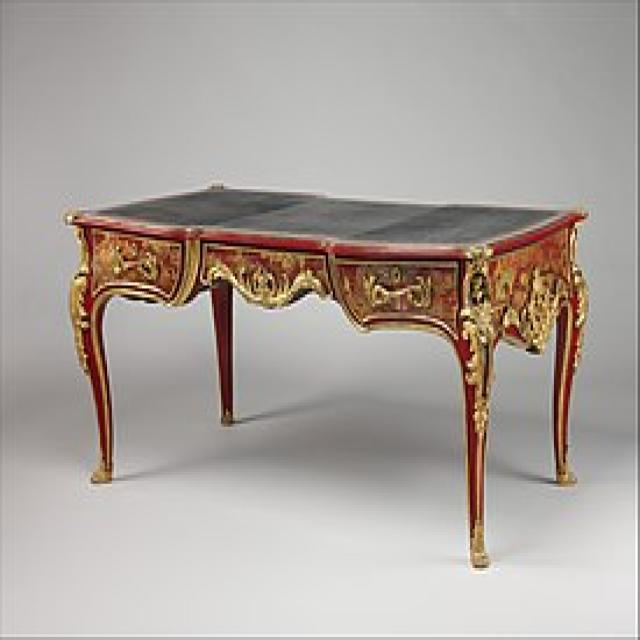obstacle: (40, 103, 598, 586)
